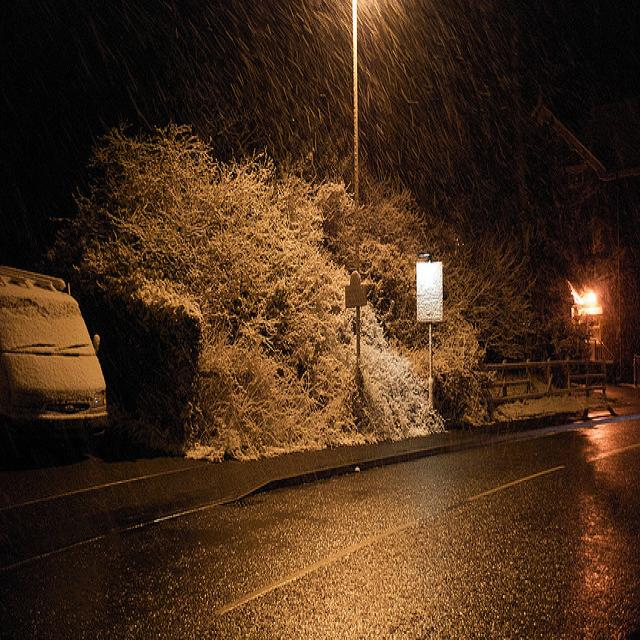Vehicle: (4, 265, 108, 425)
